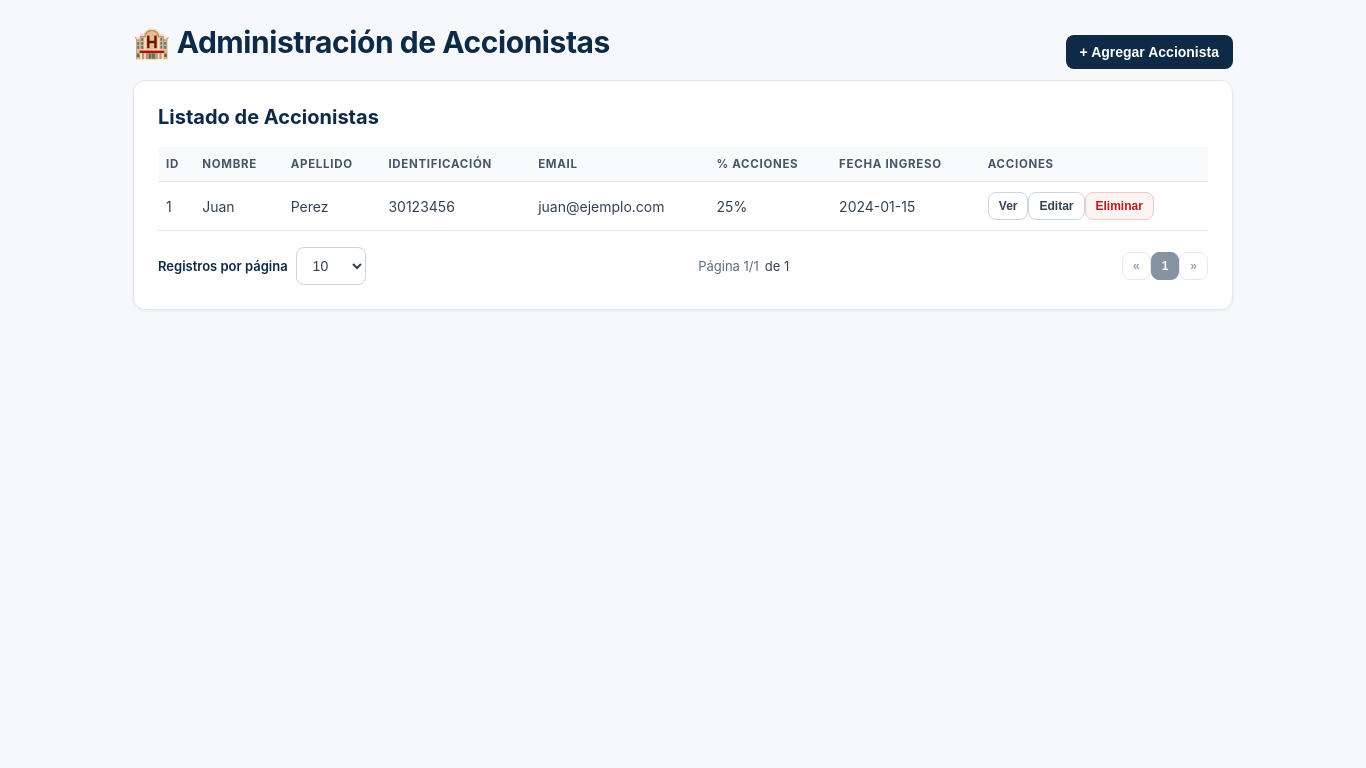
Test: AccionistasManager con popup de alta/edición › cierra el popup de eliminación sin enviar DELETE al pulsar Cancelar
This screenshot has width=1366, height=768.
expect the text "Juan" is shown: met, box [194,182,283,231]
Click the button "Eliminar" at [1119, 206], box [1084,192,1154,220]
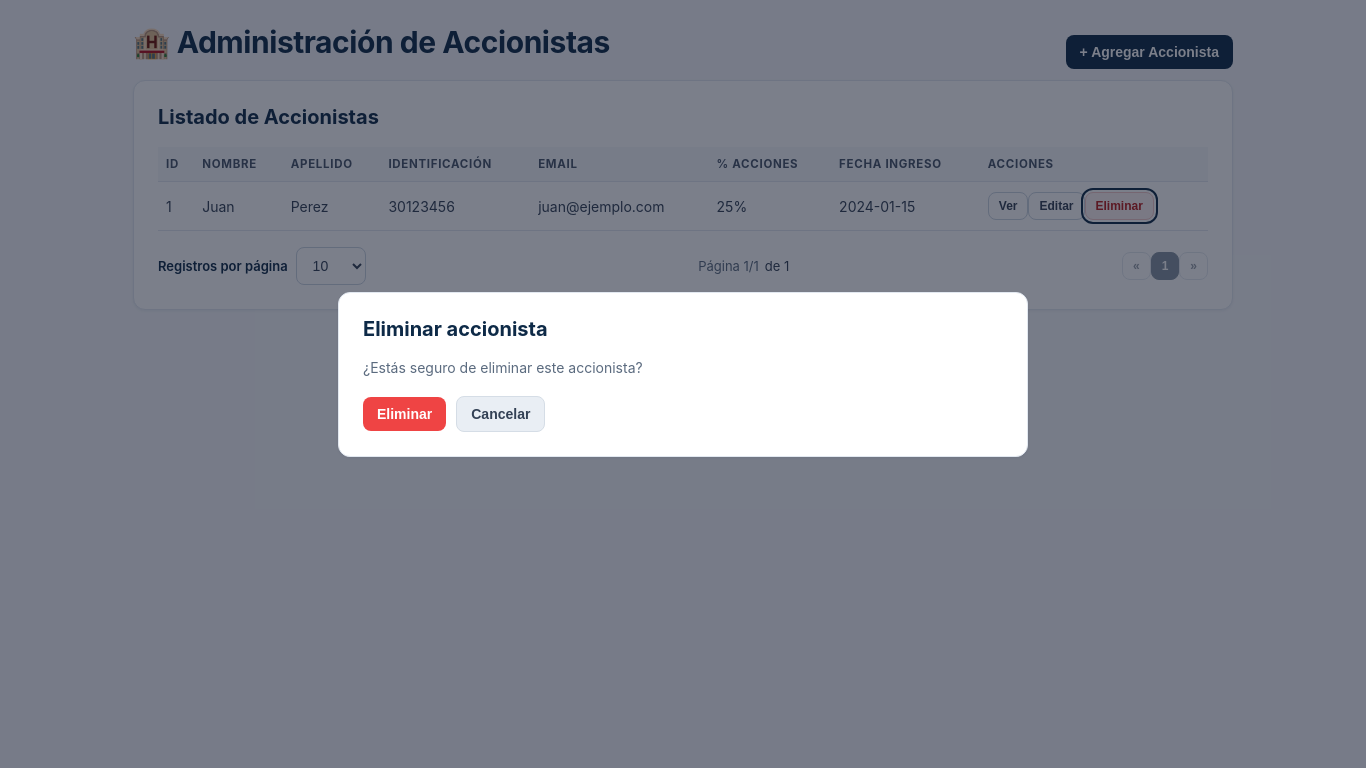
expect the dialog is shown: met, box [338,292,1028,456]
Click the button "Cancelar" at [501, 414], box [456,396,546,432]
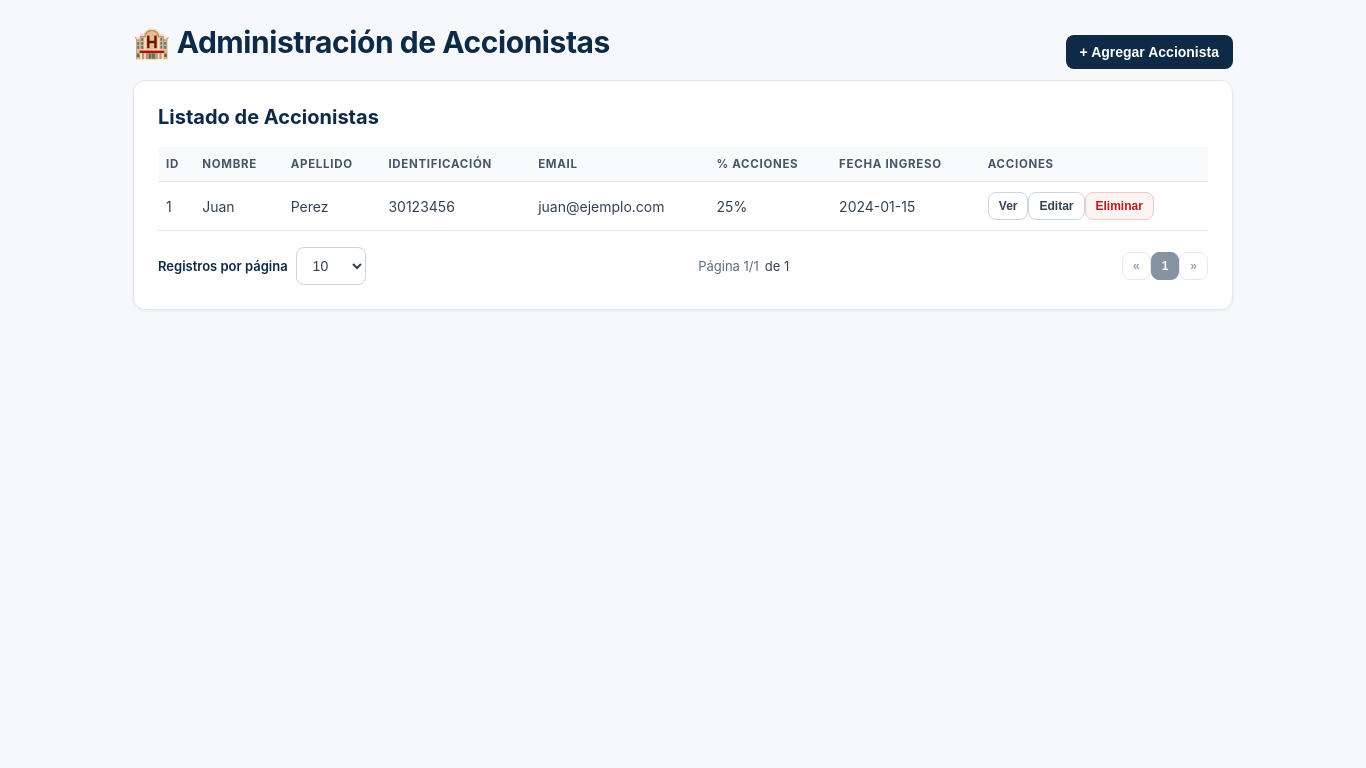
expect the dialog is gone: met
